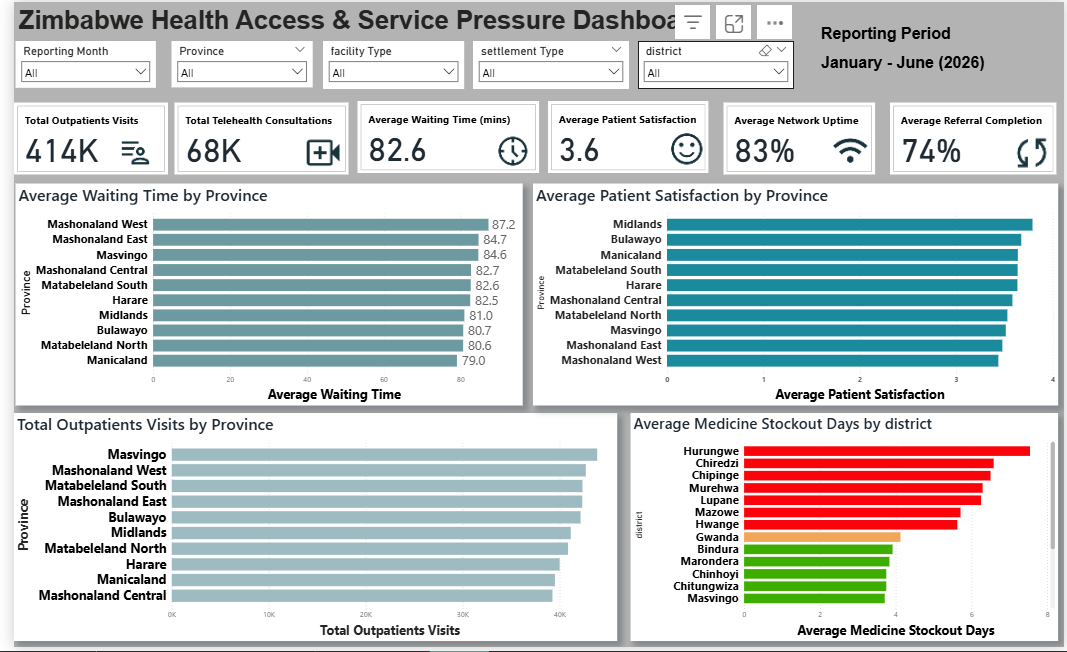

What the dashboard file says about the page in this screenshot:
{"tool":"powerbi","page":{"name":"Executive Overview","canvas":[1750,1075],"ordinal":0},"visuals":[{"type":"cardVisual","fields":{"Data":["Health Access.Total Outpatients Visits"]},"box":[0,166.7,256.7,120],"z":0},{"type":"cardVisual","fields":{"Data":["Health Access.Average Network Uptime"]},"box":[1182.5,167.5,252.5,120],"z":1000},{"type":"cardVisual","fields":{"Data":["Health Access.Average Referral Completion"]},"box":[1460,167.5,277.5,120],"z":2000},{"type":"cardVisual","fields":{"Data":["Health Access.Average Waiting Time"]},"box":[572.5,165,302.5,120],"z":3000},{"type":"cardVisual","fields":{"Data":["Health Access.Average Patient Satisfactory"]},"box":[890,165,267.5,120],"z":4000},{"type":"clusteredBarChart","fields":{"Category":["Health Access.Province"],"Y":["Health Access.Average Waiting Time"]},"box":[2.5,302.5,845,370],"z":5000},{"type":"clusteredBarChart","fields":{"Category":["Health Access.Province"],"Y":["Health Access.Total Outpatients Visits"]},"box":[0,685,1005,380],"z":6000},{"type":"slicer","fields":{"Values":["Health Access.Reporting Month"]},"box":[2,64,234,78],"z":7000},{"type":"slicer","fields":{"Values":["Health Access.Province"]},"box":[262.5,65,235,77.5],"z":8000},{"type":"slicer","fields":{"Values":["Health Access.facility Type"]},"box":[515,65,235,80],"z":9000},{"type":"textbox","box":[2,0,1262,64],"z":10000},{"type":"clusteredBarChart","fields":{"Category":["Health Access.Province"],"Y":["Health Access.Average Patient Satisfactory"]},"box":[865,302.5,875,370],"z":11000},{"type":"slicer","fields":{"Values":["Health Access.settlement Type"]},"box":[765,65,260,80],"z":12000},{"type":"cardVisual","fields":{"Data":["Health Access.Total Telehealth Consultations"]},"box":[267.5,167.5,290,120],"z":14000},{"type":"clusteredBarChart","fields":{"Category":["Health Access.district"],"Y":["Health Access.Average Medicine Stockout Days"]},"box":[1027.5,685,712.5,380],"z":15000},{"type":"slicer","fields":{"Values":["Health Access.district"]},"box":[1040,65,260,80],"z":16000},{"type":"textbox","box":[1340,32.5,357.5,117.5],"z":17000},{"type":"image","box":[165,217.5,72.5,67.5],"z":18000},{"type":"image","box":[477.5,207.5,75,87.5],"z":19000},{"type":"image","box":[1085,202.5,72.5,85],"z":20000},{"type":"image","box":[797.5,202.5,67.5,92.5],"z":21000},{"type":"image","box":[1352.5,212.5,82.5,67.5],"z":22000},{"type":"image","box":[1655,207.5,82.5,87.5],"z":23000}]}

Visuals, with their boxes in screenshot pixels (x1, y1, x2, y2), scaled from the page's 1750x1075 canvas onto the 1067x652 screenshot:
cardVisual - Health Access.Total Outpatients Visits: {"left": 0, "top": 101, "right": 157, "bottom": 174}
cardVisual - Health Access.Average Network Uptime: {"left": 721, "top": 102, "right": 875, "bottom": 174}
cardVisual - Health Access.Average Referral Completion: {"left": 890, "top": 102, "right": 1059, "bottom": 174}
cardVisual - Health Access.Average Waiting Time: {"left": 349, "top": 100, "right": 534, "bottom": 173}
cardVisual - Health Access.Average Patient Satisfactory: {"left": 543, "top": 100, "right": 706, "bottom": 173}
clusteredBarChart - Health Access.Province x Health Access.Average Waiting Time: {"left": 2, "top": 183, "right": 517, "bottom": 408}
clusteredBarChart - Health Access.Province x Health Access.Total Outpatients Visits: {"left": 0, "top": 415, "right": 613, "bottom": 646}
slicer - Health Access.Reporting Month: {"left": 1, "top": 39, "right": 144, "bottom": 86}
slicer - Health Access.Province: {"left": 160, "top": 39, "right": 303, "bottom": 86}
slicer - Health Access.facility Type: {"left": 314, "top": 39, "right": 457, "bottom": 88}
textbox: {"left": 1, "top": 0, "right": 771, "bottom": 39}
clusteredBarChart - Health Access.Province x Health Access.Average Patient Satisfactory: {"left": 527, "top": 183, "right": 1061, "bottom": 408}
slicer - Health Access.settlement Type: {"left": 466, "top": 39, "right": 625, "bottom": 88}
cardVisual - Health Access.Total Telehealth Consultations: {"left": 163, "top": 102, "right": 340, "bottom": 174}
clusteredBarChart - Health Access.district x Health Access.Average Medicine Stockout Days: {"left": 626, "top": 415, "right": 1061, "bottom": 646}
slicer - Health Access.district: {"left": 634, "top": 39, "right": 793, "bottom": 88}
textbox: {"left": 817, "top": 20, "right": 1035, "bottom": 91}
image: {"left": 101, "top": 132, "right": 145, "bottom": 173}
image: {"left": 291, "top": 126, "right": 337, "bottom": 179}
image: {"left": 662, "top": 123, "right": 706, "bottom": 174}
image: {"left": 486, "top": 123, "right": 527, "bottom": 179}
image: {"left": 825, "top": 129, "right": 875, "bottom": 170}
image: {"left": 1009, "top": 126, "right": 1059, "bottom": 179}
